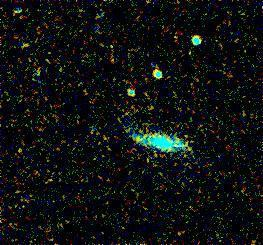star: (123, 125, 153, 155)
